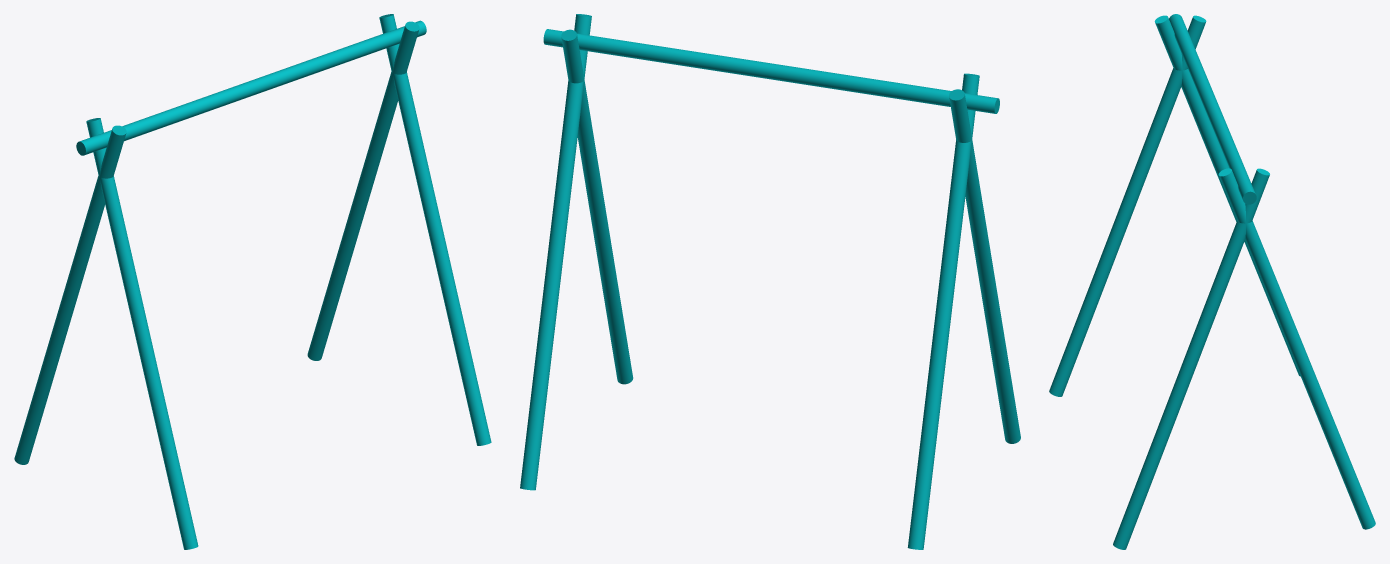
The model's file is A_frame.fbx.
The picture shows the model from 3 angles, left to right: view 1: azimuth 30°, elevation 25°; view 2: azimuth 150°, elevation 25°; view 3: azimuth 270°, elevation 25°; orthographic projection. The views are drawn at different scales.
Parts seen in each view (by area): view 1: Cylinder4, Cylinder1, Cylinder, Cylinder3, Cylinder2; view 2: Cylinder, Cylinder3, Cylinder2, Cylinder4, Cylinder1; view 3: Cylinder4, Cylinder3, Cylinder1, Cylinder2, Cylinder.
Part boxes in pixels (x1,y1,x2,y2): Cylinder4: [379, 14, 491, 445]; Cylinder1: [86, 118, 198, 549]; Cylinder: [14, 125, 126, 464]; Cylinder3: [307, 21, 419, 360]; Cylinder2: [76, 20, 426, 155]; Cylinder: [907, 73, 979, 549]; Cylinder3: [520, 14, 591, 490]; Cylinder2: [543, 29, 999, 113]; Cylinder4: [561, 29, 633, 384]; Cylinder1: [949, 89, 1020, 443]; Cylinder4: [1113, 168, 1269, 549]; Cylinder3: [1218, 168, 1375, 529]; Cylinder1: [1049, 15, 1206, 396]; Cylinder2: [1169, 14, 1256, 204]; Cylinder: [1154, 15, 1300, 376].
Bounding box in the file's own units: 1486 × 1147 × 1436.
